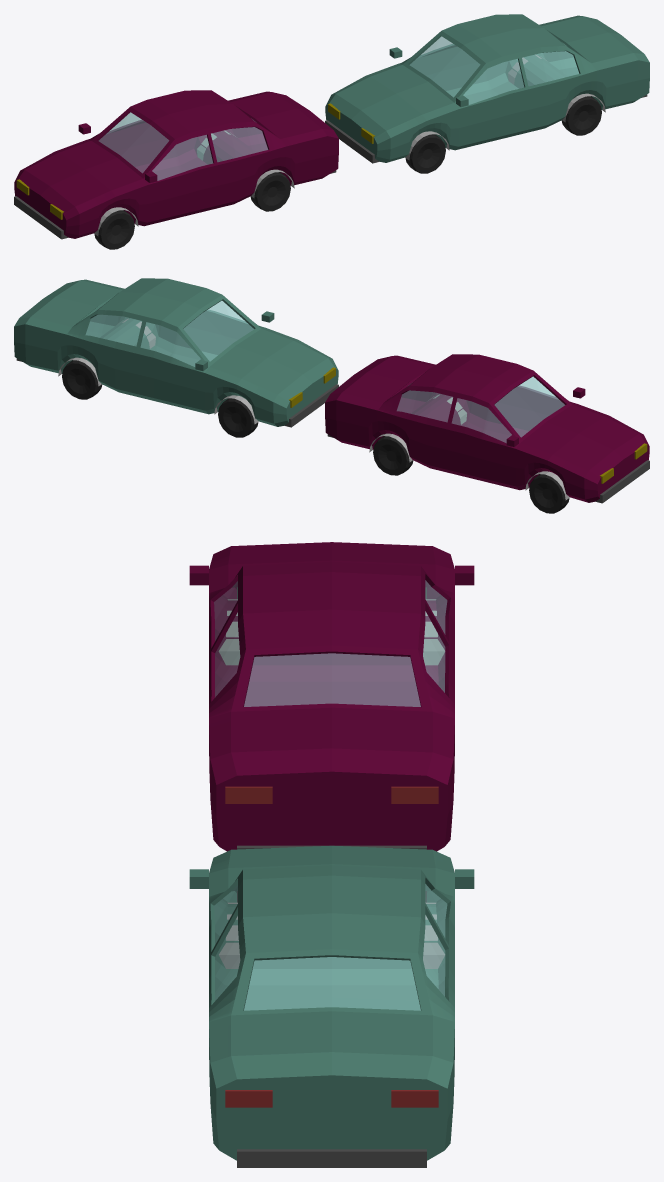
File: Tsurus.fbx
3 renders of one model, top to bottom at view 1: azimuth 30°, elevation 25°; view 2: azimuth 150°, elevation 25°; view 3: azimuth 270°, elevation 25°, orthographic. The views are drawn at different scales.
Parts seen in each view (by area): view 1: mirrors1, nissan_tsuru_lowpoly:mirrors1, nissan_tsuru_lowpoly:wheel_5, wheel_5, wells4, nissan_tsuru_lowpoly:wells4, nissan_tsuru_lowpoly:bumper_front1, bumper_front1; view 2: mirrors1, nissan_tsuru_lowpoly:mirrors1, nissan_tsuru_lowpoly:wheel_5, wheel_5, wells4, nissan_tsuru_lowpoly:wells4, nissan_tsuru_lowpoly:bumper_front1, bumper_front1; view 3: mirrors1, nissan_tsuru_lowpoly:mirrors1, bumper_front1, polySurface231 (×2), nissan_tsuru_lowpoly:wells4, wells4.
Part boxes in pixels (x1,y1,x2,y2): mirrors1: [325, 14, 649, 162]; nissan_tsuru_lowpoly:mirrors1: [14, 90, 338, 238]; nissan_tsuru_lowpoly:wheel_5: [94, 172, 290, 249]; wheel_5: [405, 96, 601, 173]; wells4: [405, 54, 605, 160]; nissan_tsuru_lowpoly:wells4: [94, 130, 294, 236]; nissan_tsuru_lowpoly:bumper_front1: [14, 170, 336, 239]; bumper_front1: [325, 94, 647, 163]; mirrors1: [14, 278, 338, 426]; nissan_tsuru_lowpoly:mirrors1: [325, 354, 649, 502]; nissan_tsuru_lowpoly:wheel_5: [373, 436, 569, 513]; wheel_5: [62, 360, 258, 437]; wells4: [58, 318, 258, 424]; nissan_tsuru_lowpoly:wells4: [369, 394, 569, 500]; nissan_tsuru_lowpoly:bumper_front1: [327, 434, 649, 503]; bumper_front1: [16, 358, 338, 427]; mirrors1: [189, 845, 474, 1160]; nissan_tsuru_lowpoly:mirrors1: [189, 542, 474, 851]; bumper_front1: [237, 891, 426, 1167]; polySurface231 (×2): [225, 786, 438, 1107]; nissan_tsuru_lowpoly:wells4: [219, 599, 444, 665]; wells4: [219, 902, 444, 968].
Size of the model in its own units: 31.72 by 4.9 by 6.67.
